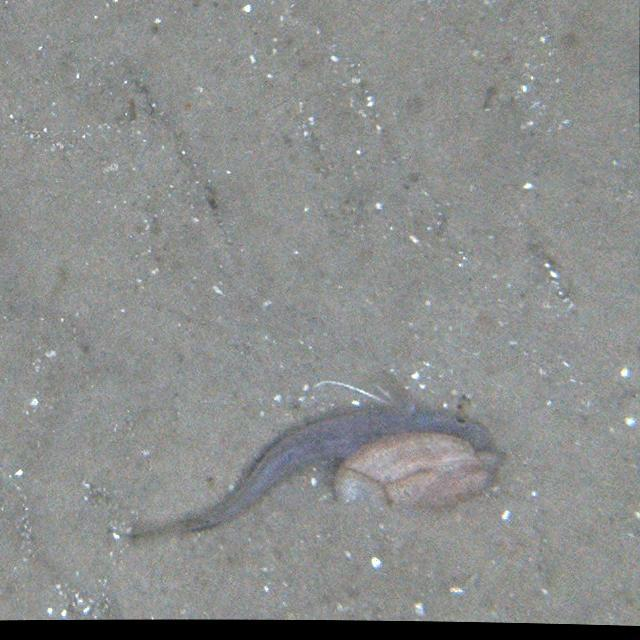roundfish: (123, 385, 496, 545)
